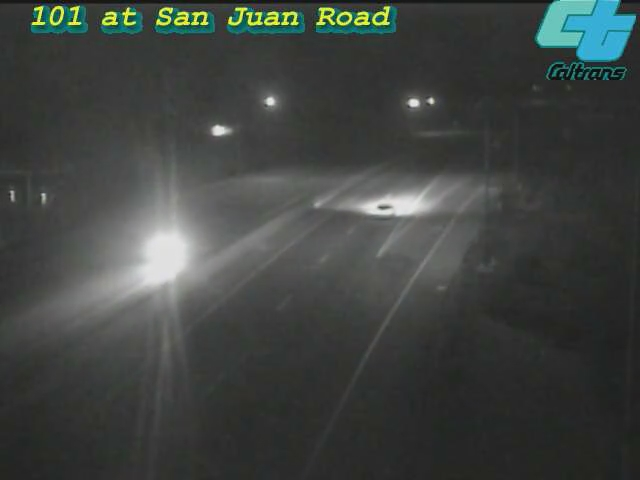vehicle: (342, 173, 422, 253), (124, 212, 204, 292)
